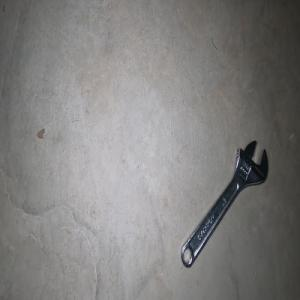Wrench: (180, 140, 267, 268)
